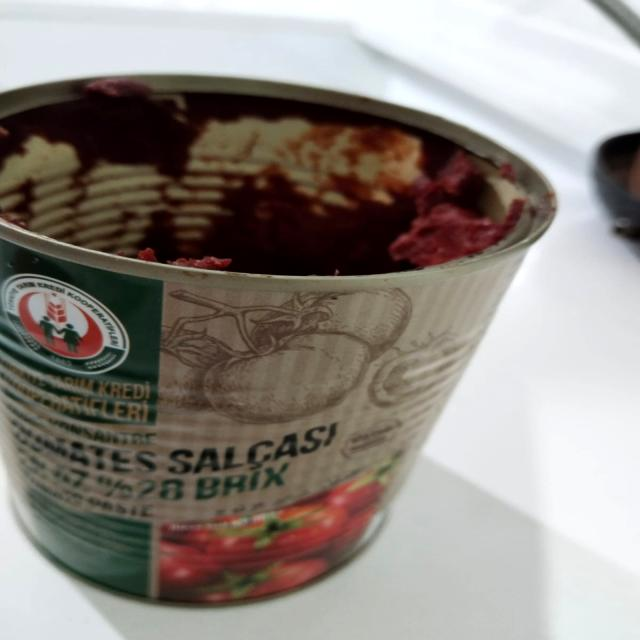tomato paste: (0, 93, 556, 602)
